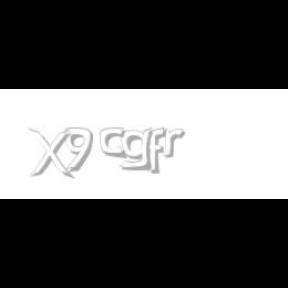9: (65, 128, 94, 172)
X: (28, 128, 72, 180)
c: (100, 128, 128, 160)
f: (146, 128, 170, 174)
g: (120, 128, 156, 171)
r: (162, 128, 188, 158)
